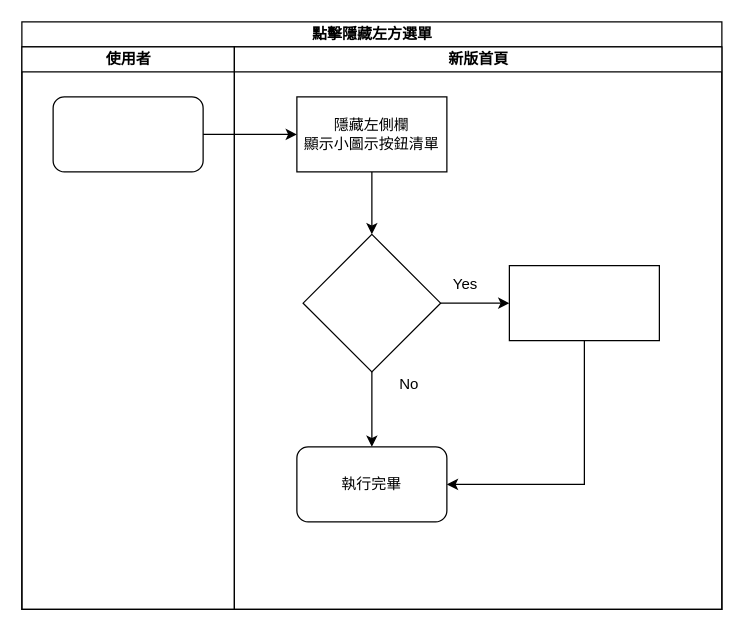
The diagram is 744 pixels wide and 631 high, and some of its shapes have lost their labels. Each missing label, with the box of its shape:
在小圖示按鈕清單 顯示按鈕.個人資訊: (508, 264, 659, 341)
已登入系統且 隱藏系統選單列: (302, 233, 441, 372)
點擊按鈕.隱藏左方選單: (52, 96, 203, 172)
